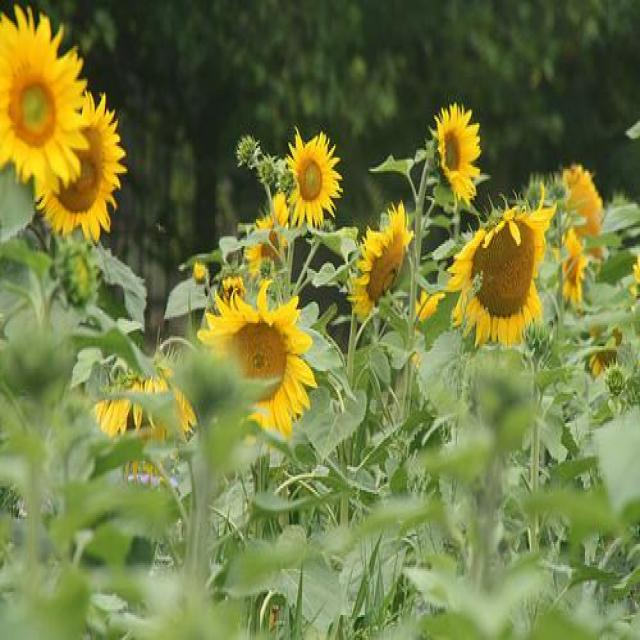sunflower: (199, 280, 316, 443), (444, 183, 556, 349), (1, 0, 89, 188), (37, 91, 124, 242), (96, 383, 195, 477), (347, 199, 413, 320), (284, 128, 341, 228), (433, 102, 486, 203), (245, 215, 285, 276), (560, 229, 584, 304)
